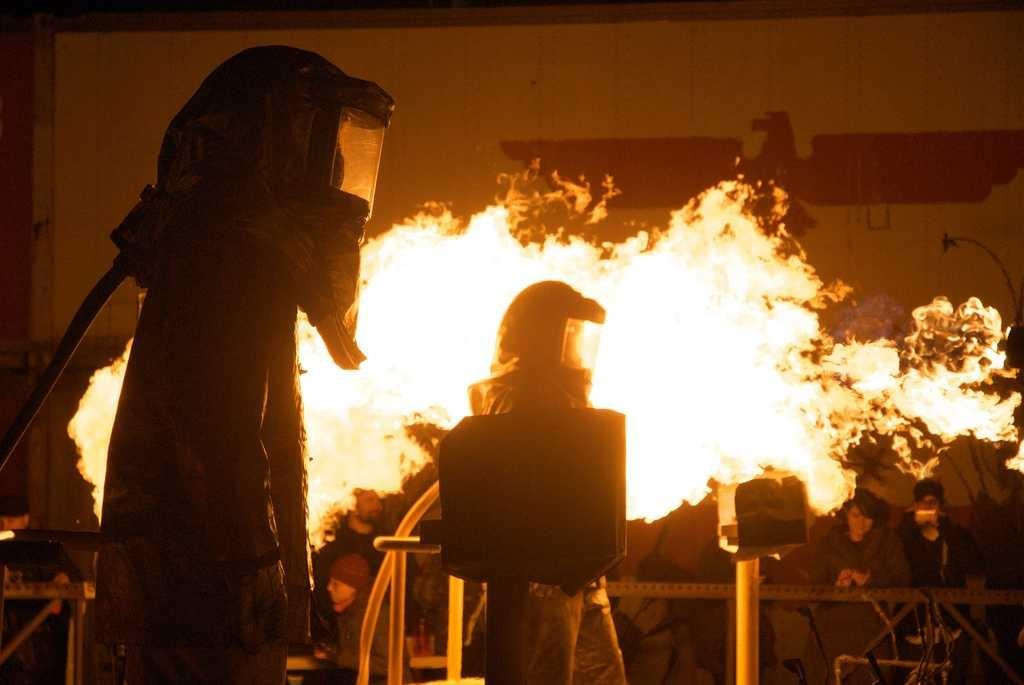fire: (593, 220, 878, 498), (310, 205, 530, 510), (890, 315, 1017, 460), (70, 340, 125, 500)
